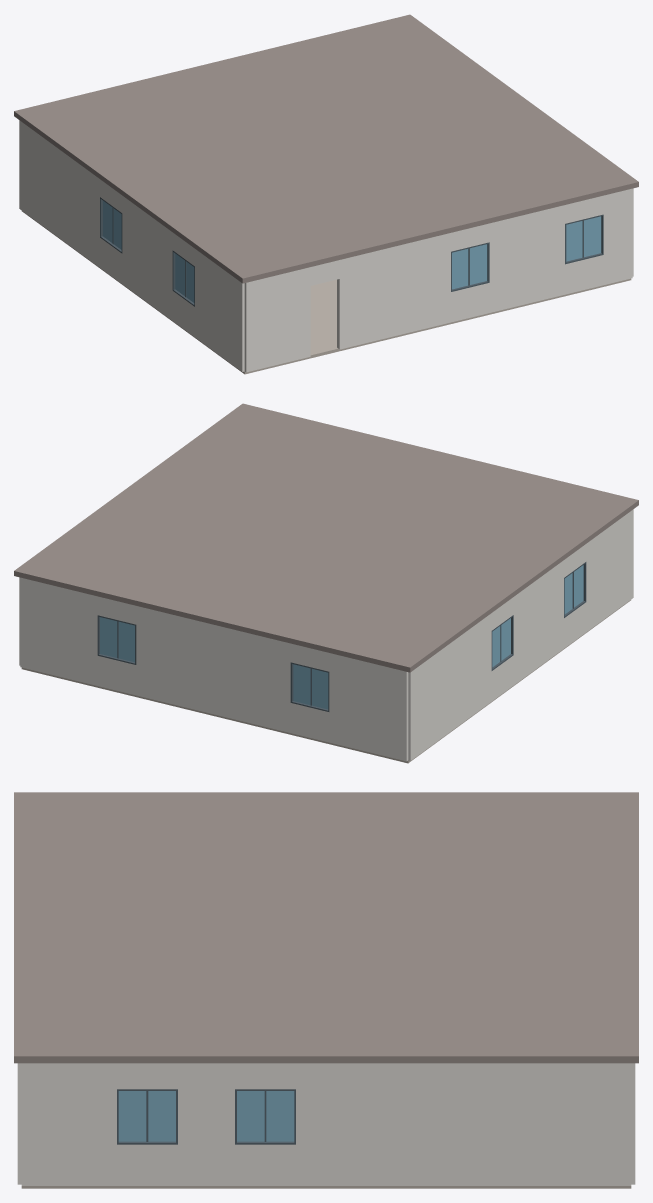
The model's file is new-home-5208efccd1.glb.
3 views of the same model, one above another, from view 1: azimuth 30°, elevation 25°; view 2: azimuth 150°, elevation 25°; view 3: azimuth 270°, elevation 25° (orthographic). The views are drawn at different scales.
Parts seen in each view (by area): view 1: roof_0, wall_0_12, wall_0_15, wall_0_13, wall_0_11, wall_0_16, wall_0_17, floor_slab_0, wall_0_14, window_0_7_pane, window_0_4_pane, wall_0_52 (+8 smaller); view 2: roof_0, wall_0_1, wall_0_15, wall_0_0, wall_0_2, wall_0_16, wall_0_17, window_0_0_pane, window_0_1_pane, wall_0_30, wall_0_33, floor_slab_0 (+6 smaller); view 3: roof_0, wall_0_25, wall_0_27, wall_0_26, window_0_5_pane, window_0_6_pane, wall_0_48, wall_0_50, floor_slab_0, wall_0_47, wall_0_49, wall_0_2 (+1 smaller).
Boxes of the visible parts, box(x1,y1,x2,y2) form: roof_0: box(14, 14, 638, 283); wall_0_12: box(337, 233, 450, 349); wall_0_15: box(19, 120, 99, 267); wall_0_13: box(489, 205, 564, 312); wall_0_11: box(244, 267, 310, 372); wall_0_16: box(122, 196, 172, 320); wall_0_17: box(195, 249, 244, 371); floor_slab_0: box(22, 211, 631, 374); wall_0_14: box(603, 188, 632, 284); window_0_7_pane: box(566, 216, 601, 261); window_0_4_pane: box(452, 244, 487, 289); wall_0_52: box(565, 255, 603, 294); roof_0: box(14, 403, 638, 672); wall_0_1: box(136, 606, 290, 732); wall_0_15: box(408, 613, 491, 760); wall_0_0: box(329, 653, 408, 761); wall_0_2: box(20, 577, 97, 685); wall_0_16: box(513, 560, 563, 685); wall_0_17: box(586, 509, 633, 631); window_0_0_pane: box(293, 664, 328, 709); window_0_1_pane: box(100, 617, 134, 662); wall_0_30: box(290, 703, 329, 742); wall_0_33: box(97, 656, 136, 695); floor_slab_0: box(21, 600, 630, 763); roof_0: box(14, 792, 638, 1063); wall_0_25: box(296, 1063, 631, 1185); wall_0_27: box(21, 1063, 116, 1185); wall_0_26: box(178, 1063, 234, 1185); window_0_5_pane: box(237, 1091, 294, 1141); window_0_6_pane: box(118, 1091, 175, 1141); wall_0_48: box(235, 1144, 295, 1185); wall_0_50: box(117, 1144, 177, 1185); floor_slab_0: box(21, 1186, 631, 1188); wall_0_47: box(235, 1063, 295, 1089); wall_0_49: box(117, 1063, 177, 1089); wall_0_2: box(631, 1063, 635, 1184).
Bounding box in the file's own units: 41 × 9.8 × 41.
